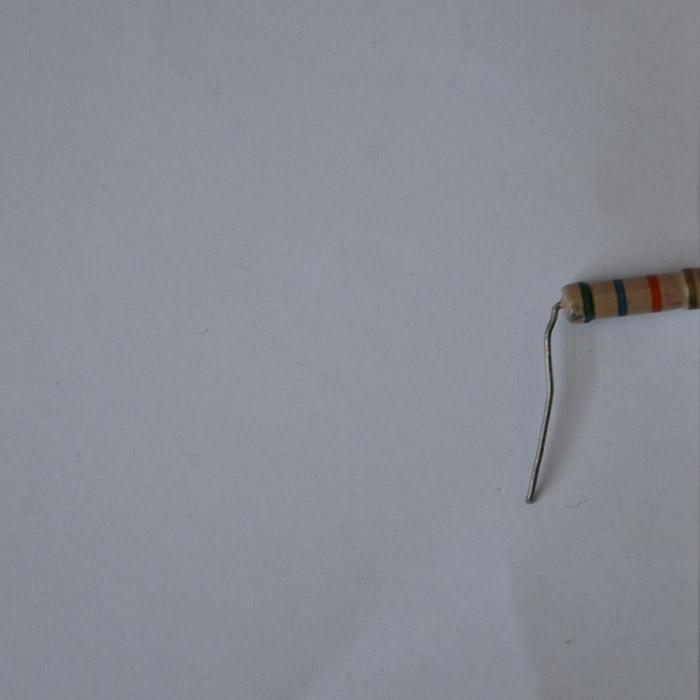resistor: (558, 267, 700, 324)
